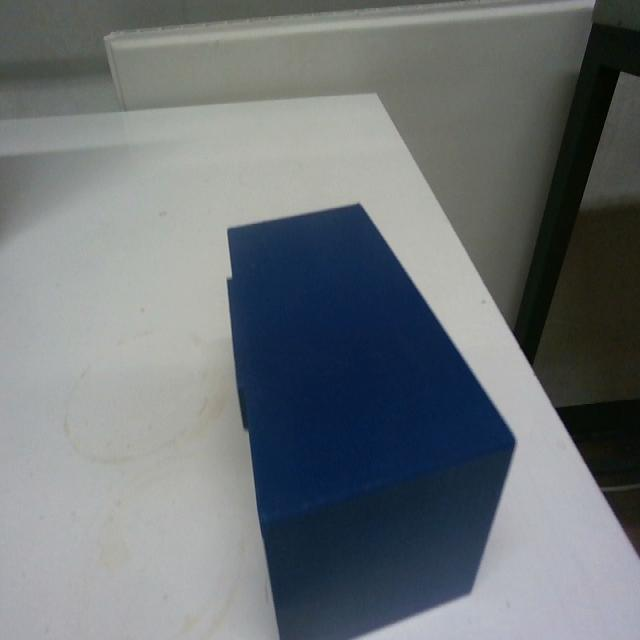Blue Cuboid: (223, 197, 518, 636)
